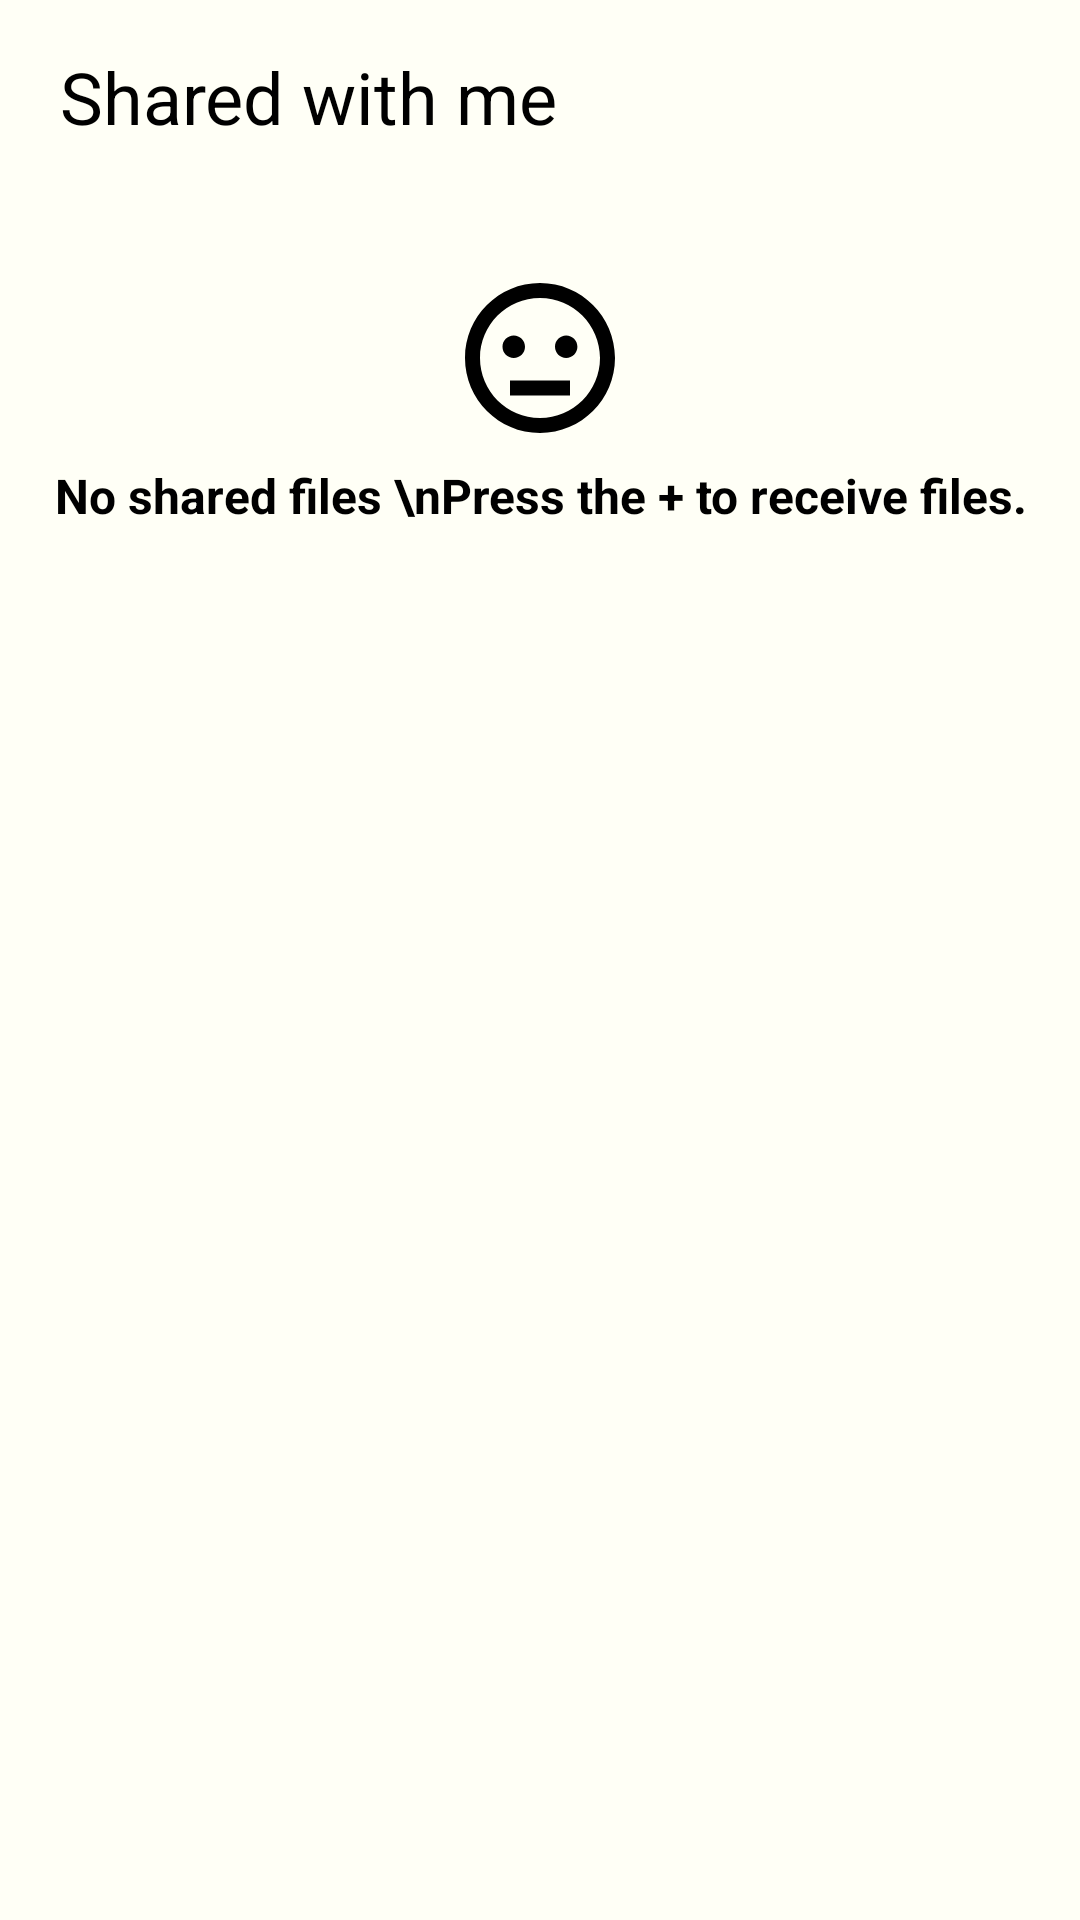

Where to tap for icons on this 1080 × 1920 app screen, as (x=x, y=y):
confused: (x=540, y=358)
